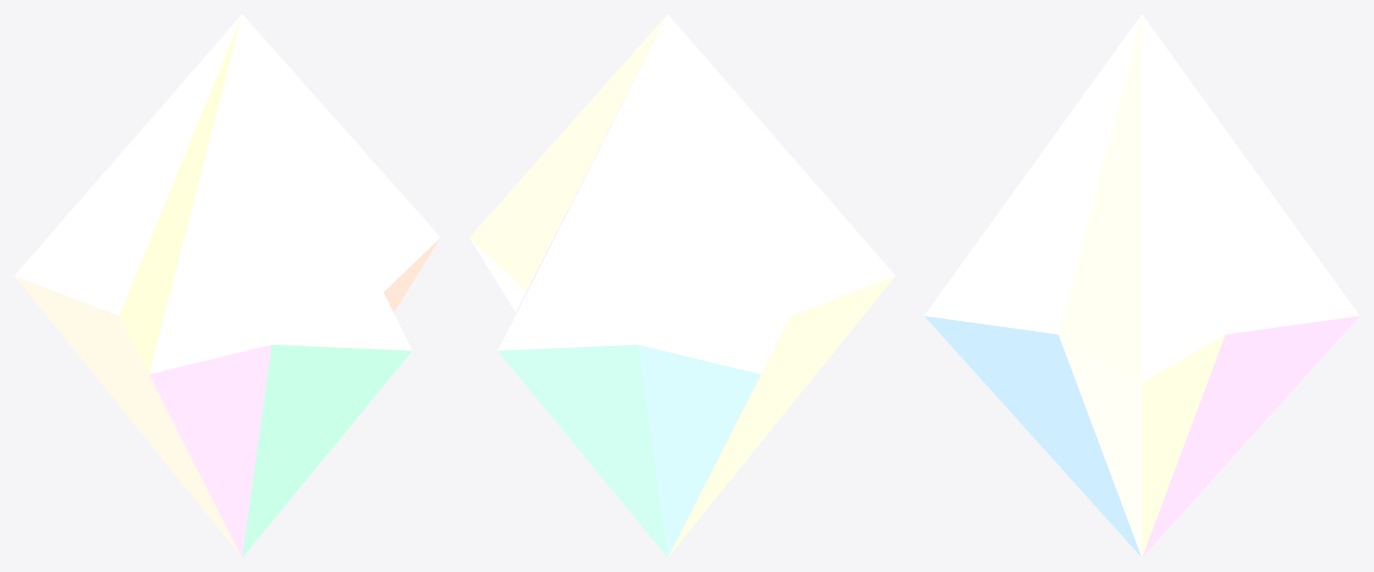
The model's file is gem_prism.glb.
The picture shows the model from 3 angles, left to right: view 1: azimuth 30°, elevation 25°; view 2: azimuth 150°, elevation 25°; view 3: azimuth 270°, elevation 25°; orthographic projection.
Bounding box in the file's own units: 0.7598 × 1.1 × 0.7989.
